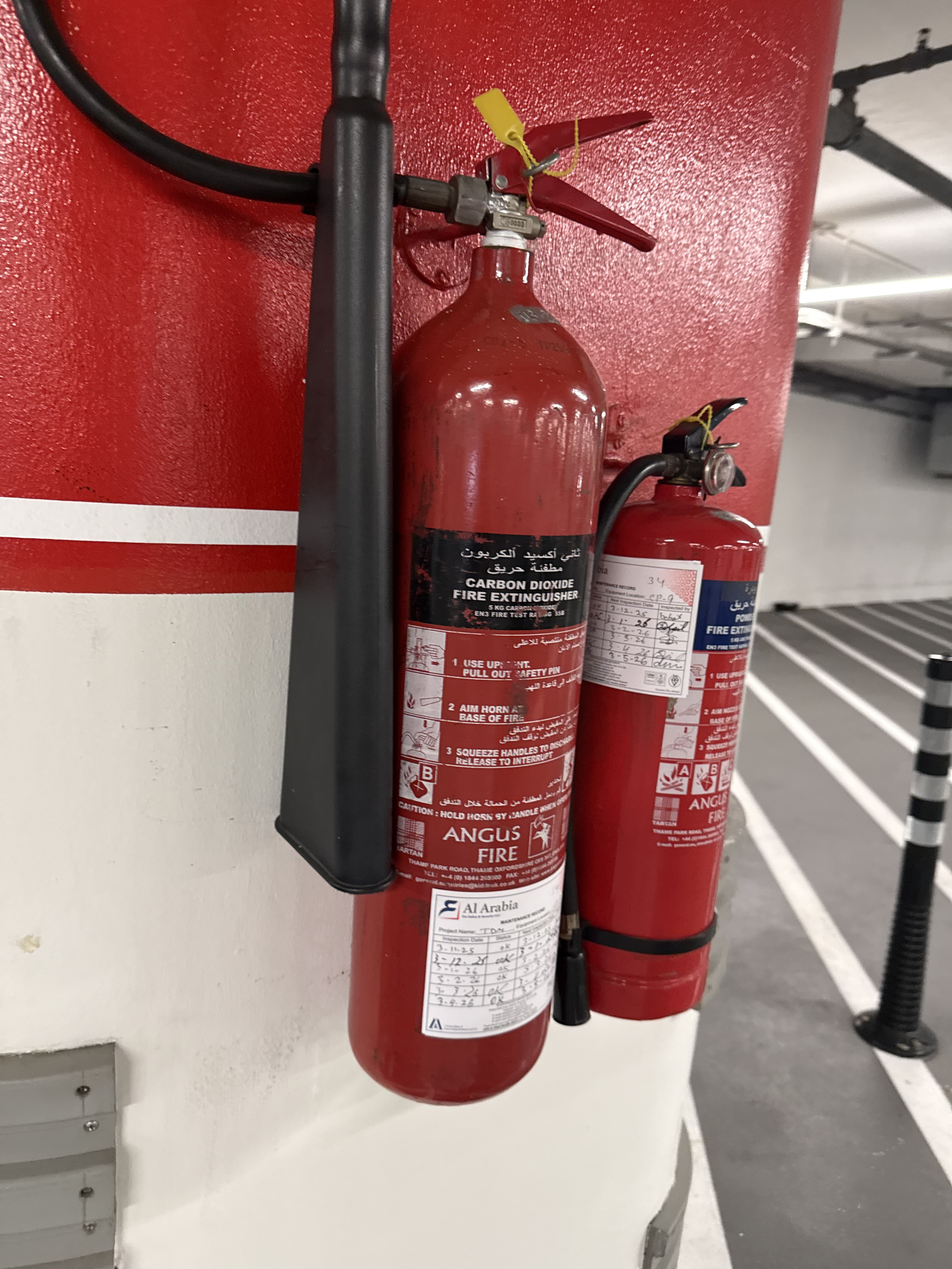fire_extinguisher: (347, 102, 657, 1107), (570, 395, 767, 1021)
